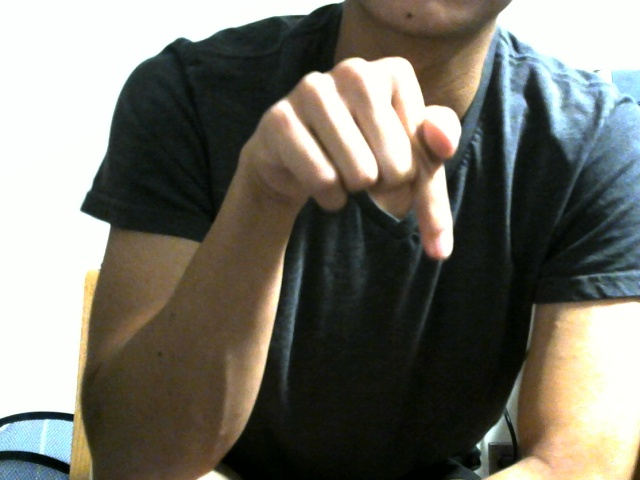down: (214, 37, 501, 311)
